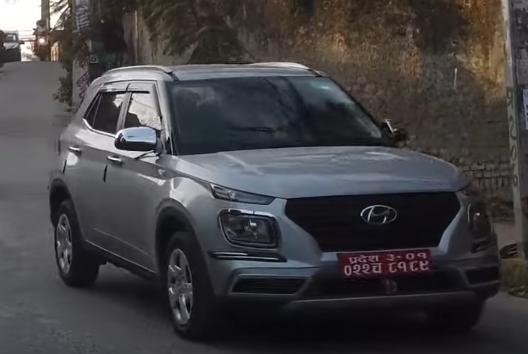car: (51, 58, 504, 338)
